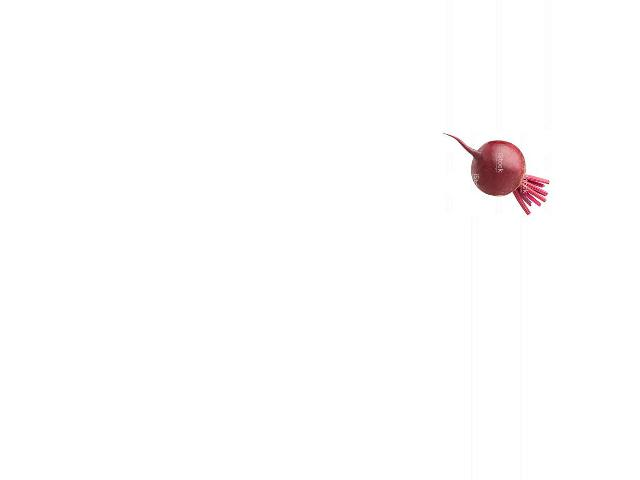beet: (444, 132, 549, 215)
